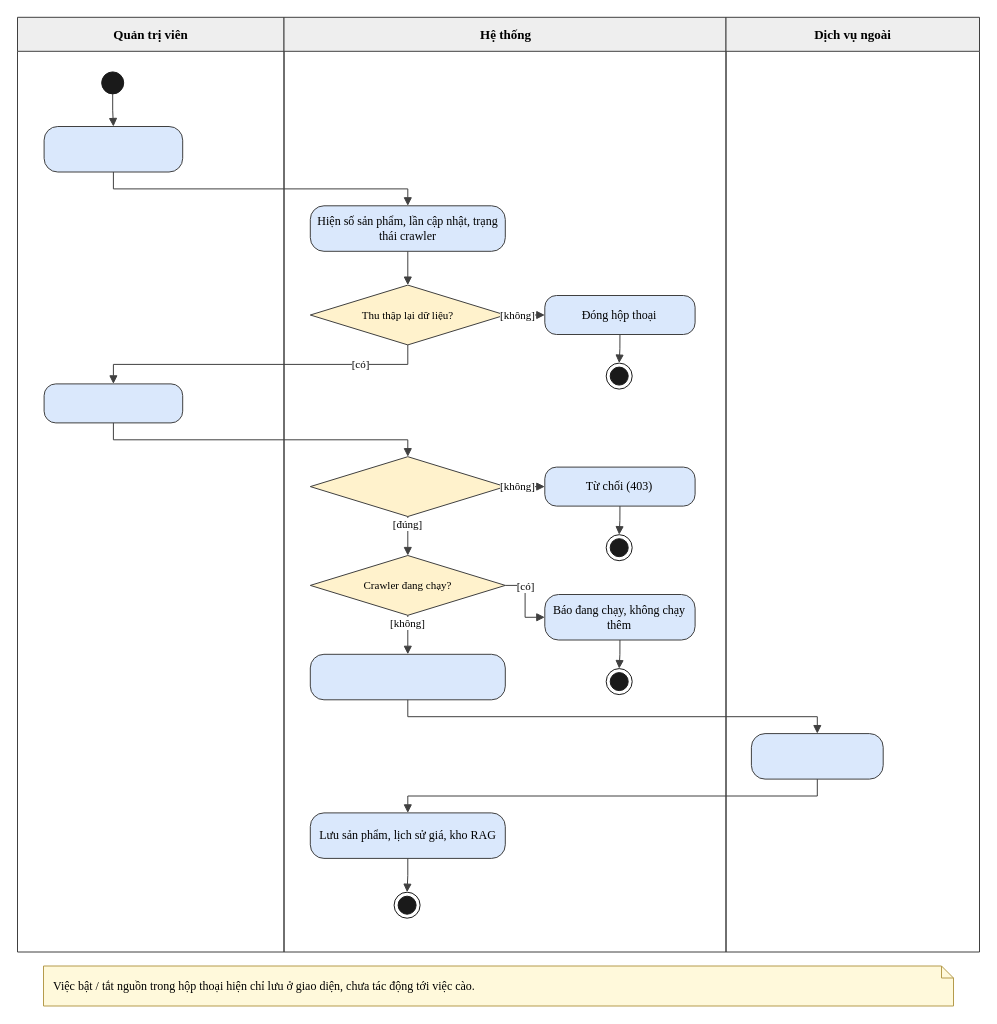
This 997x1024 diagram has some shape labels left out. The centre of each missing label's shape, as x and y in pixels:
Bấm “Thu thập lại”: (x=113, y=403)
Chạy thu thập nền cho từng mặt hàng phổ biến: (x=407, y=676)
Các sàn trả về danh sách sản phẩm: (x=816, y=756)
Là Quản trị viên?: (x=407, y=486)
Mở hộp thoại Nguồn & kho dữ liệu: (x=113, y=149)
